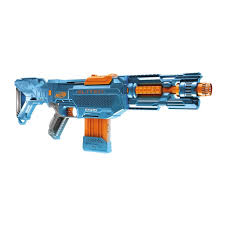Arma Falsa: (11, 71, 215, 151)
